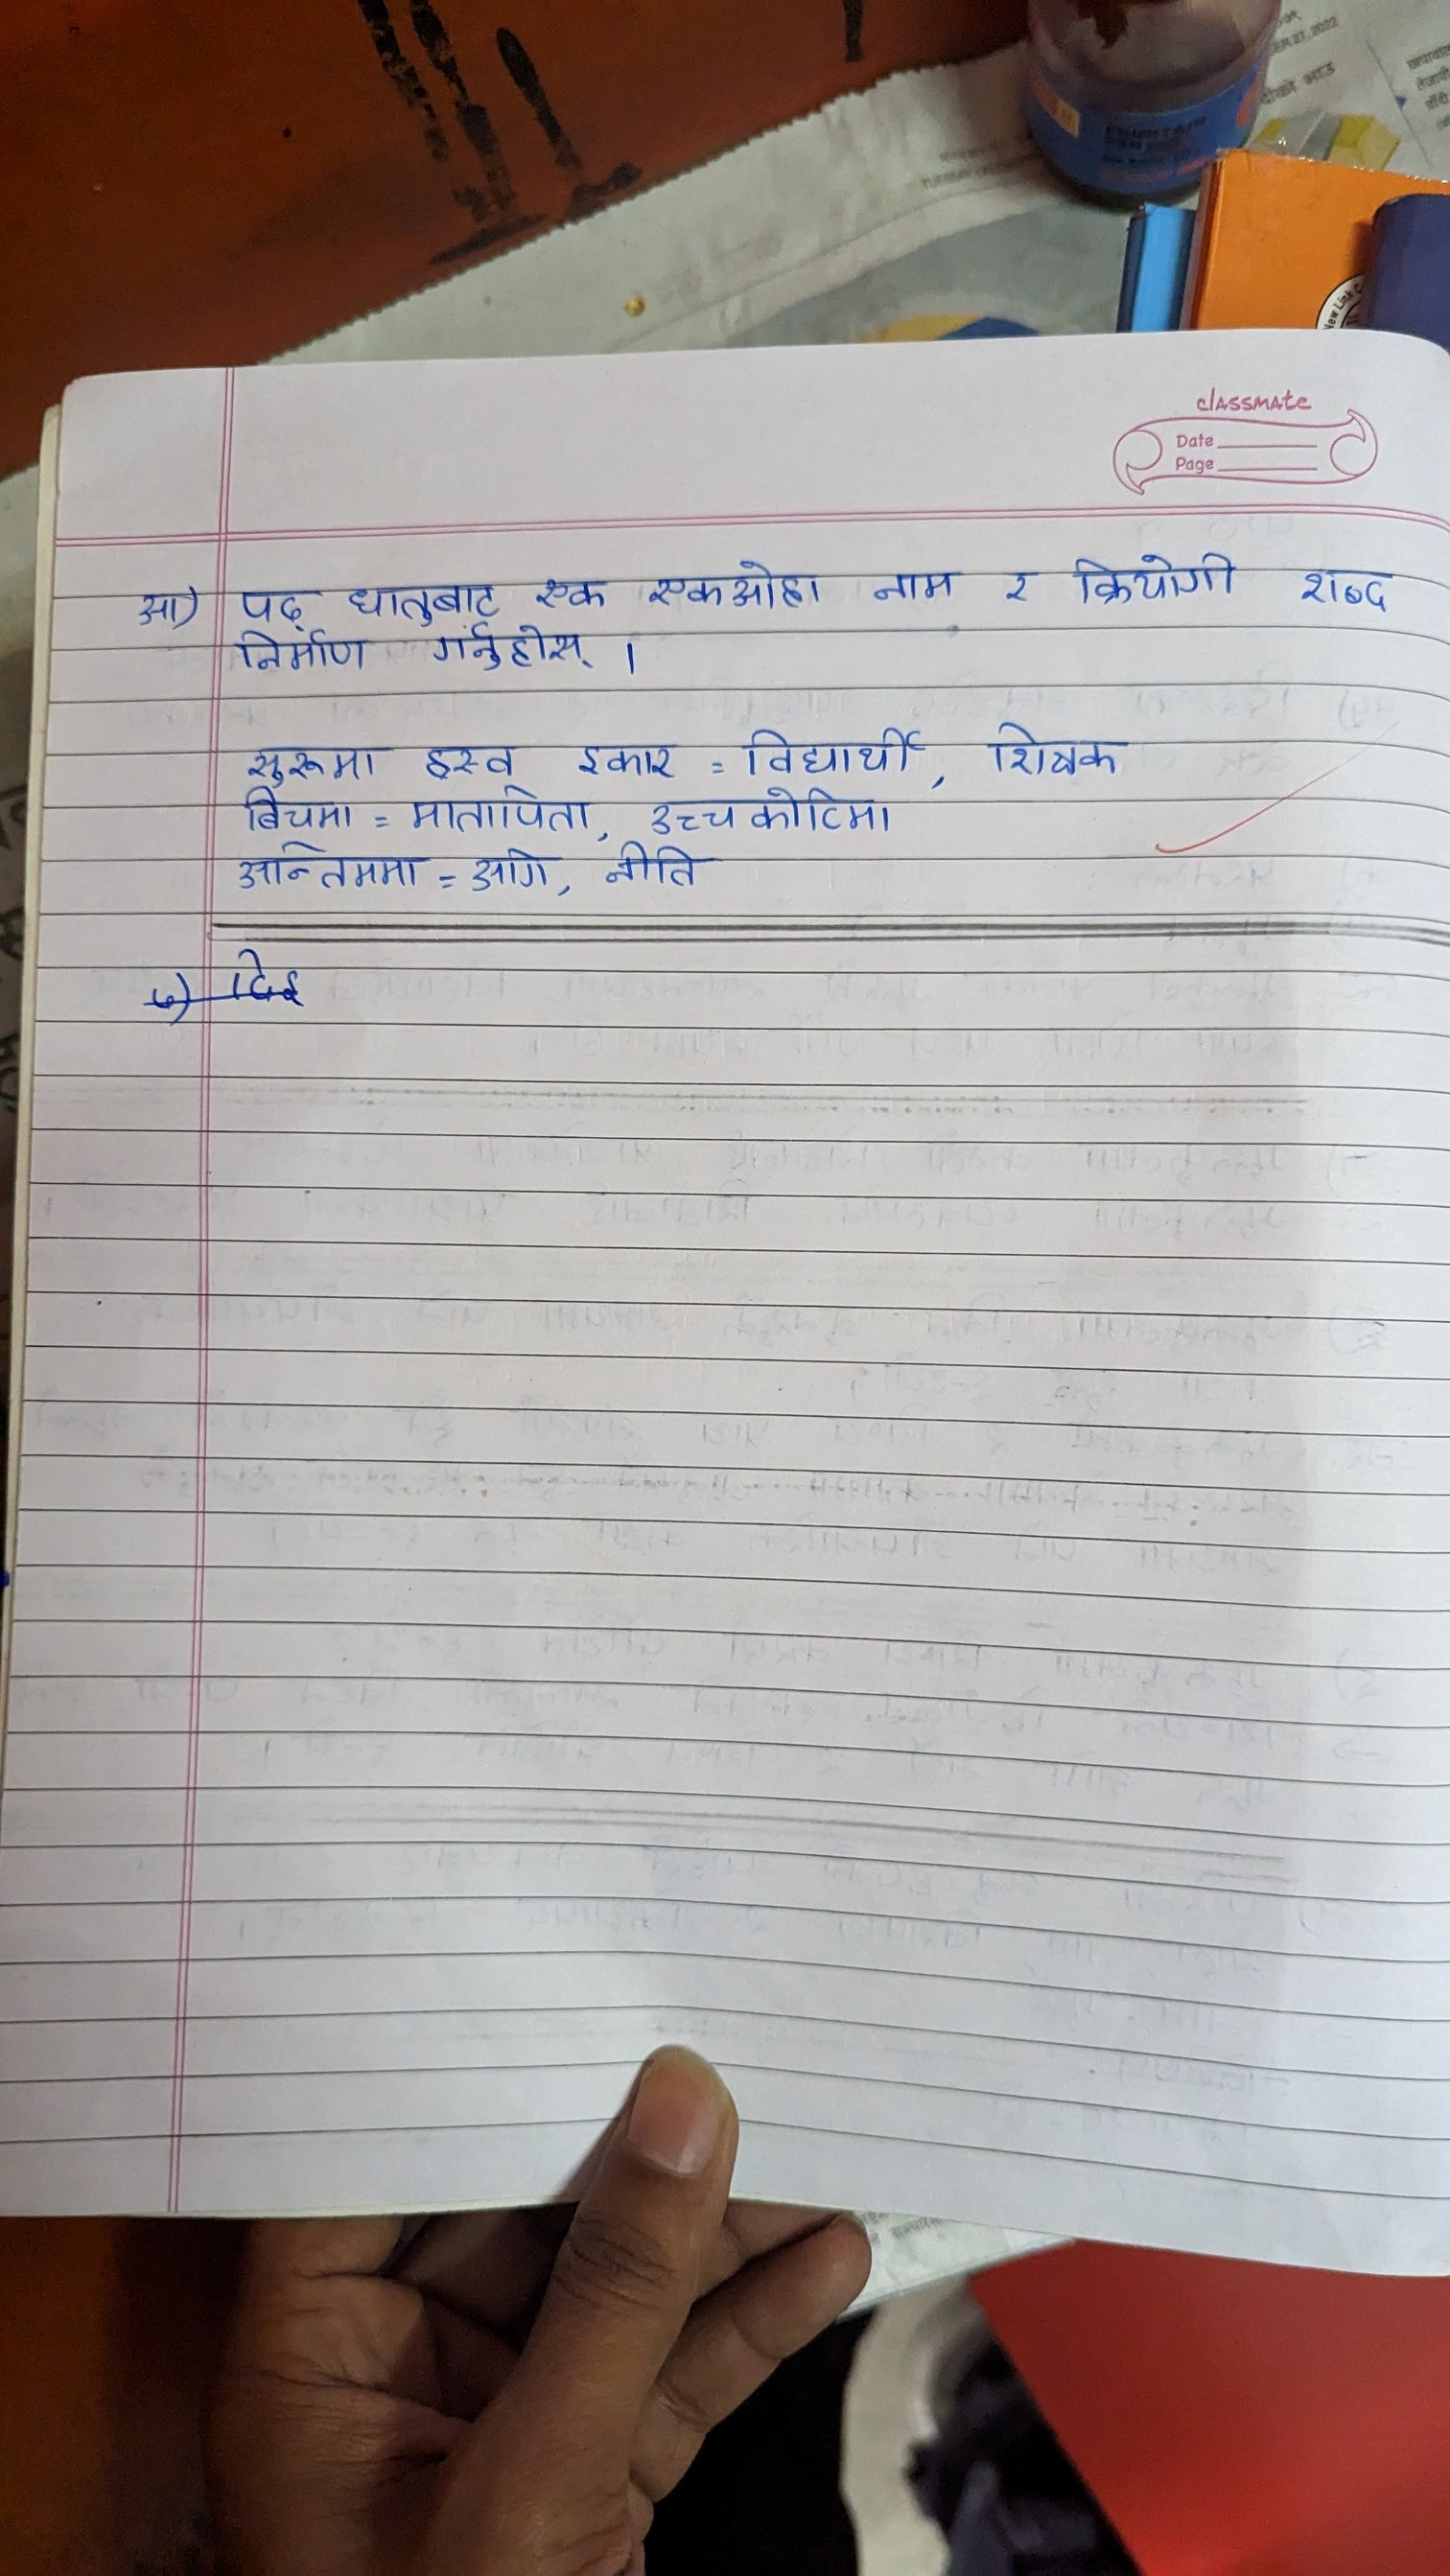text: (639, 786, 898, 842), (225, 842, 423, 897), (395, 784, 593, 839), (724, 724, 922, 778), (960, 725, 1158, 780), (646, 548, 823, 609), (227, 628, 404, 688), (1073, 550, 1250, 610), (432, 623, 609, 681), (239, 729, 382, 786), (1273, 556, 1402, 616), (347, 577, 515, 623), (407, 736, 542, 782), (237, 789, 370, 835), (598, 842, 731, 888), (441, 847, 574, 893), (556, 731, 689, 777), (122, 584, 205, 633), (533, 570, 616, 619), (876, 561, 960, 610), (237, 577, 320, 625), (995, 559, 1050, 614)
